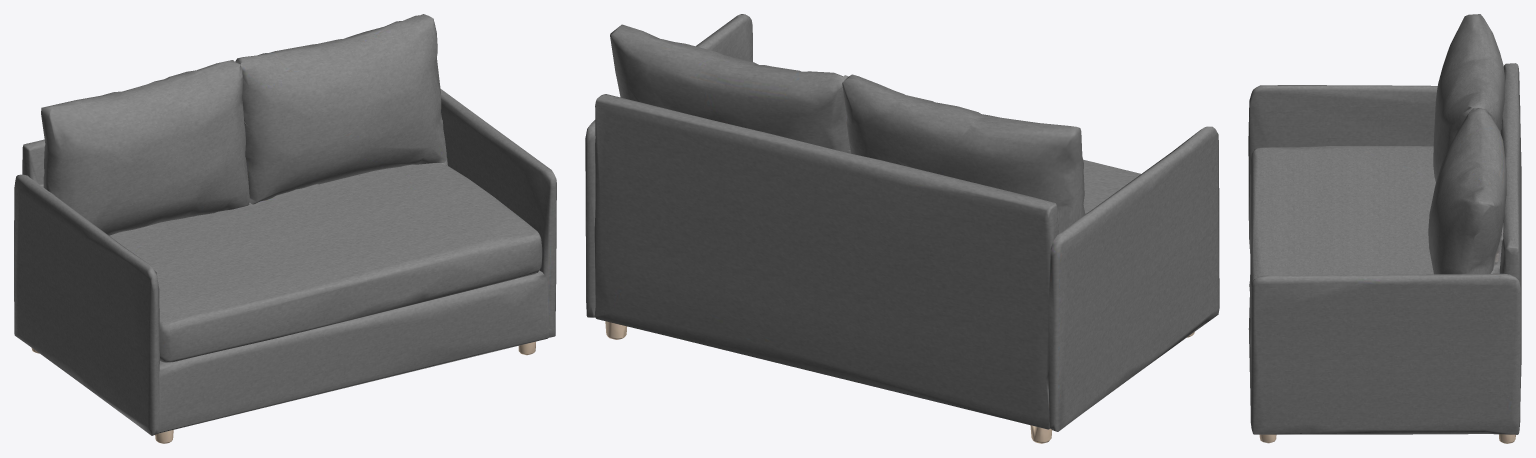
The model's file is fridhult_sofa_rozkadana_70351725.glb.
The picture shows the model from 3 angles, left to right: view 1: azimuth 30°, elevation 25°; view 2: azimuth 150°, elevation 25°; view 3: azimuth 270°, elevation 25°; orthographic projection. The views are drawn at different scales.
Visible parts, largest first — view 1: fridhult_sofa_rozkadana_70351725; view 2: fridhult_sofa_rozkadana_70351725; view 3: fridhult_sofa_rozkadana_70351725.
Boxes of the visible parts, box(x1,y1,x2,y2) form: fridhult_sofa_rozkadana_70351725: box(14, 14, 556, 443); fridhult_sofa_rozkadana_70351725: box(585, 14, 1219, 443); fridhult_sofa_rozkadana_70351725: box(1248, 14, 1521, 443).
Size of the model in its own units: 1.27 by 0.763 by 0.7528.
Materials: 1 (1 with a texture image).
